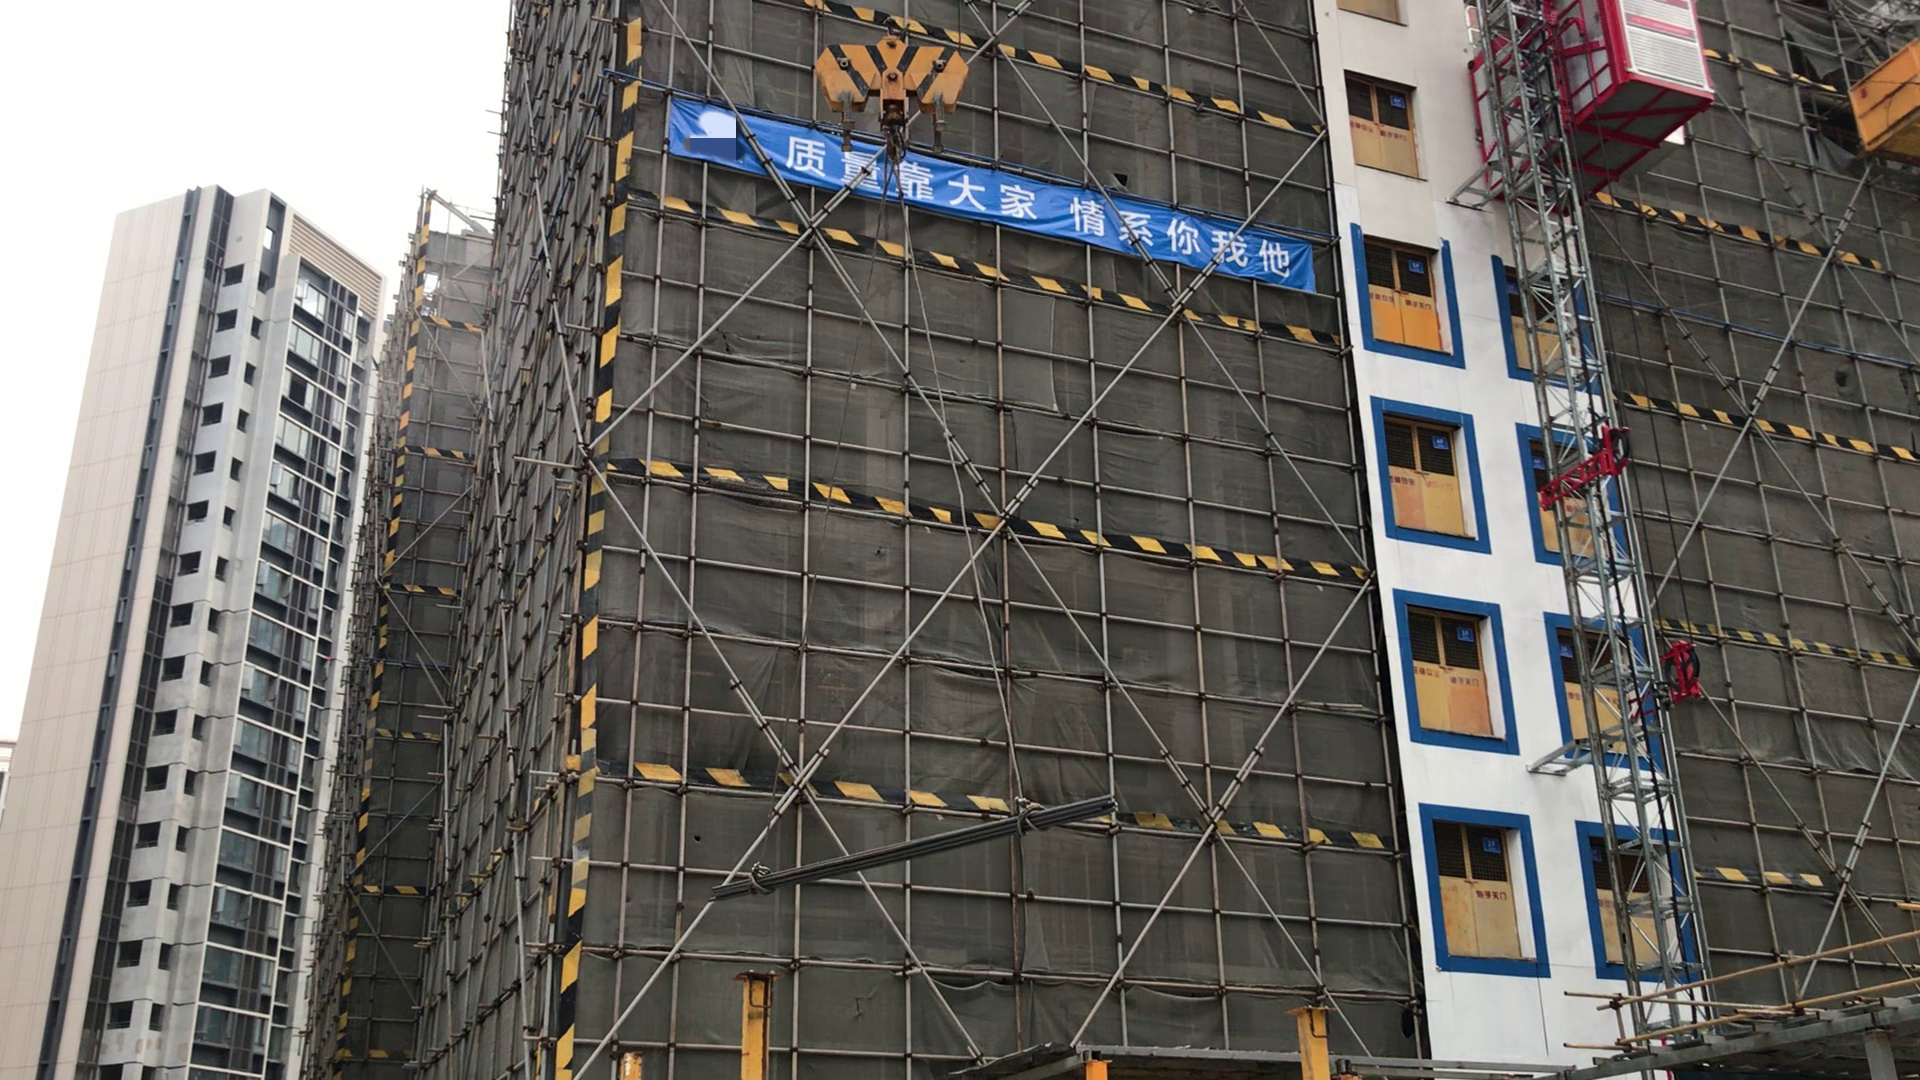hook: (765, 7, 1040, 220)
rebar: (707, 793, 1124, 905)
slogan: (663, 95, 1323, 313)
